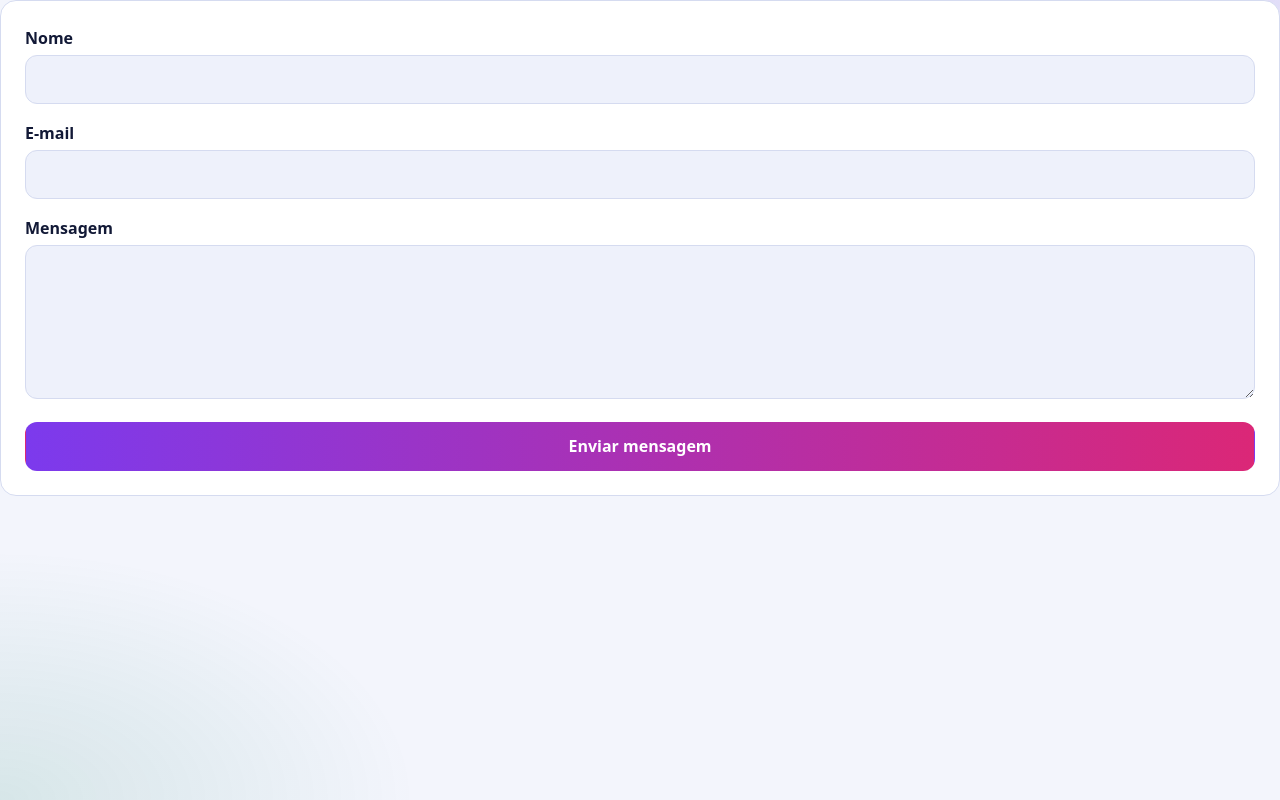
Test: ContactForm › bloqueia o botão durante o envio e evita mensagens duplicadas
Type "Maria Souza" into the field labelled "Nome".
click(640, 80); type("Maria Souza")  # box [25,55,1255,104]
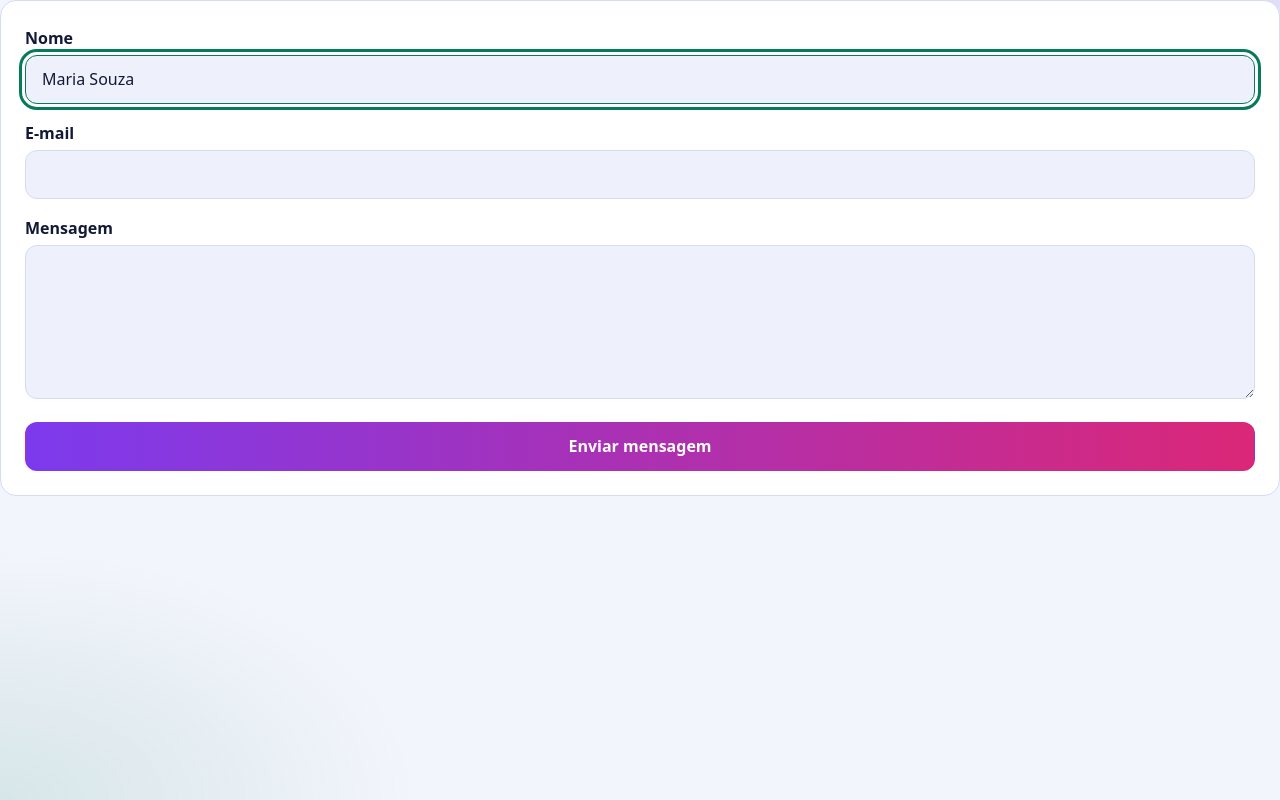
Type "maria@exemplo.com" into the field labelled "E-mail".
click(640, 174); type("maria@exemplo.com")  # box [25,150,1255,199]
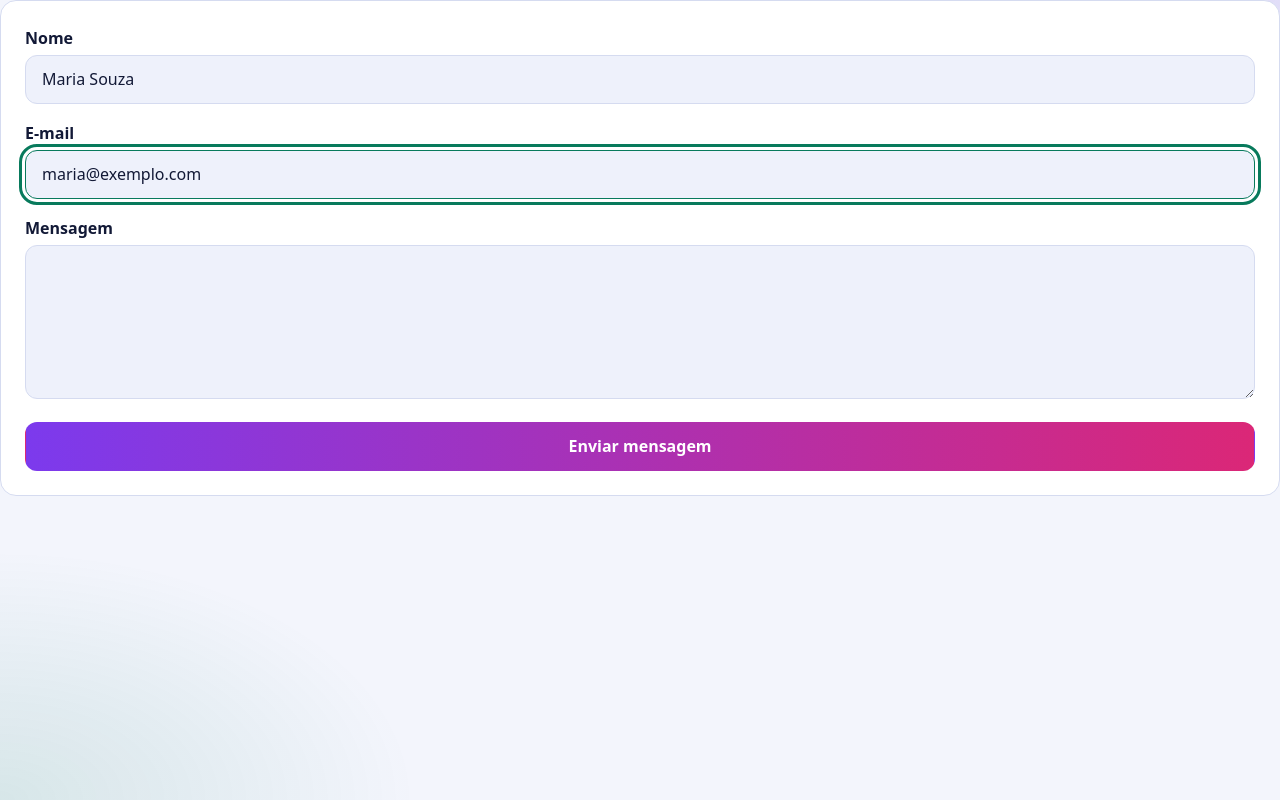
Type "Olá Henrique, gostei do seu portfólio e quero conversar." into the text box labelled "Mensagem".
click(640, 322); type("Olá Henrique, gostei do seu portfólio e quero conversar.")  # box [25,245,1255,399]
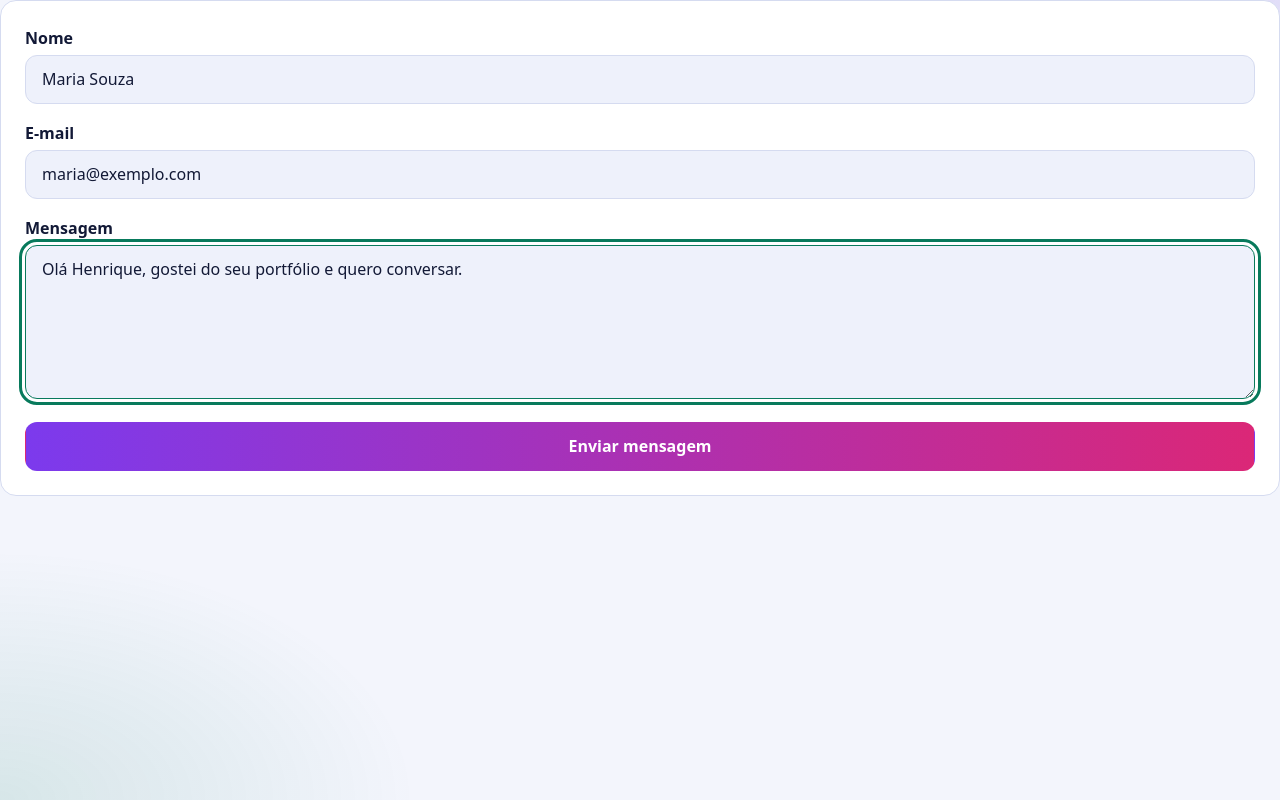
Click the button "Enviar mensagem".
click(640, 446)  # box [25,422,1255,471]
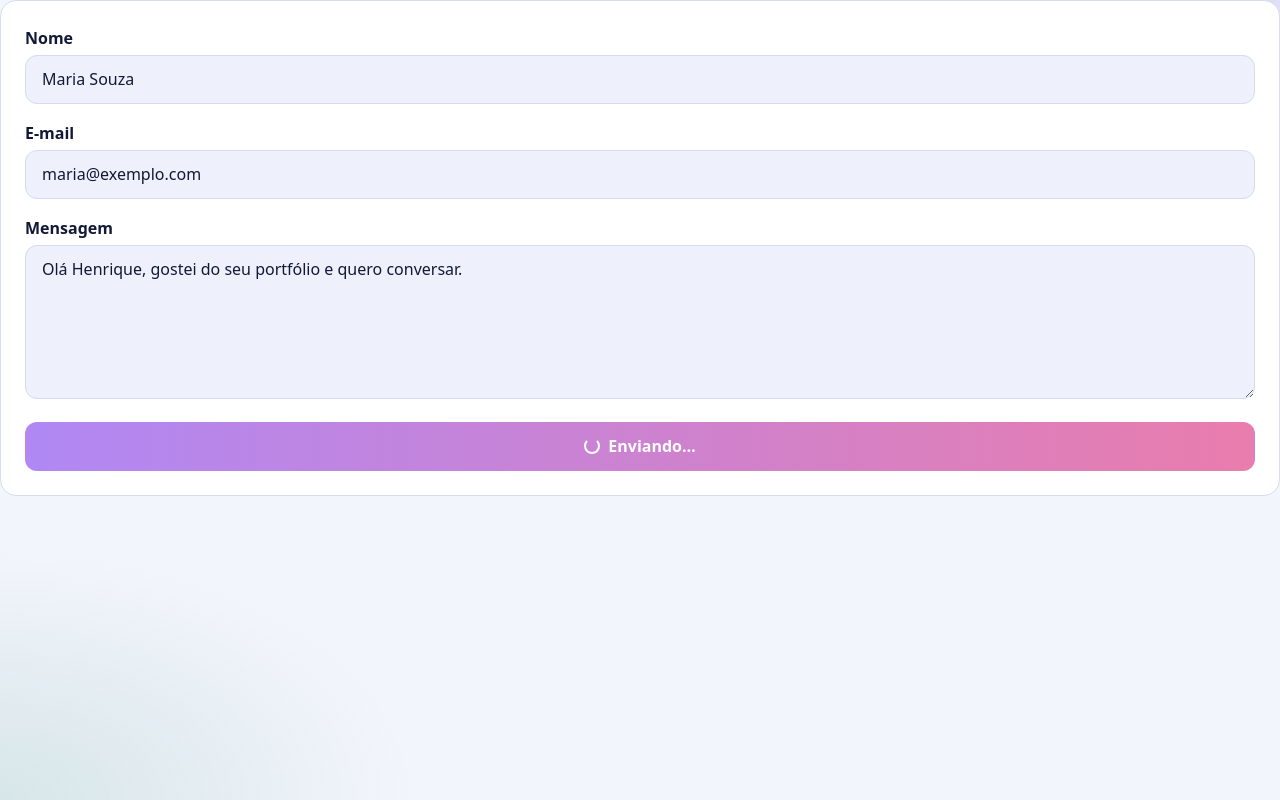
Check: the button "Enviando…" is disabled
Click the button "Enviando…".
click(640, 446)  # box [25,422,1255,471]
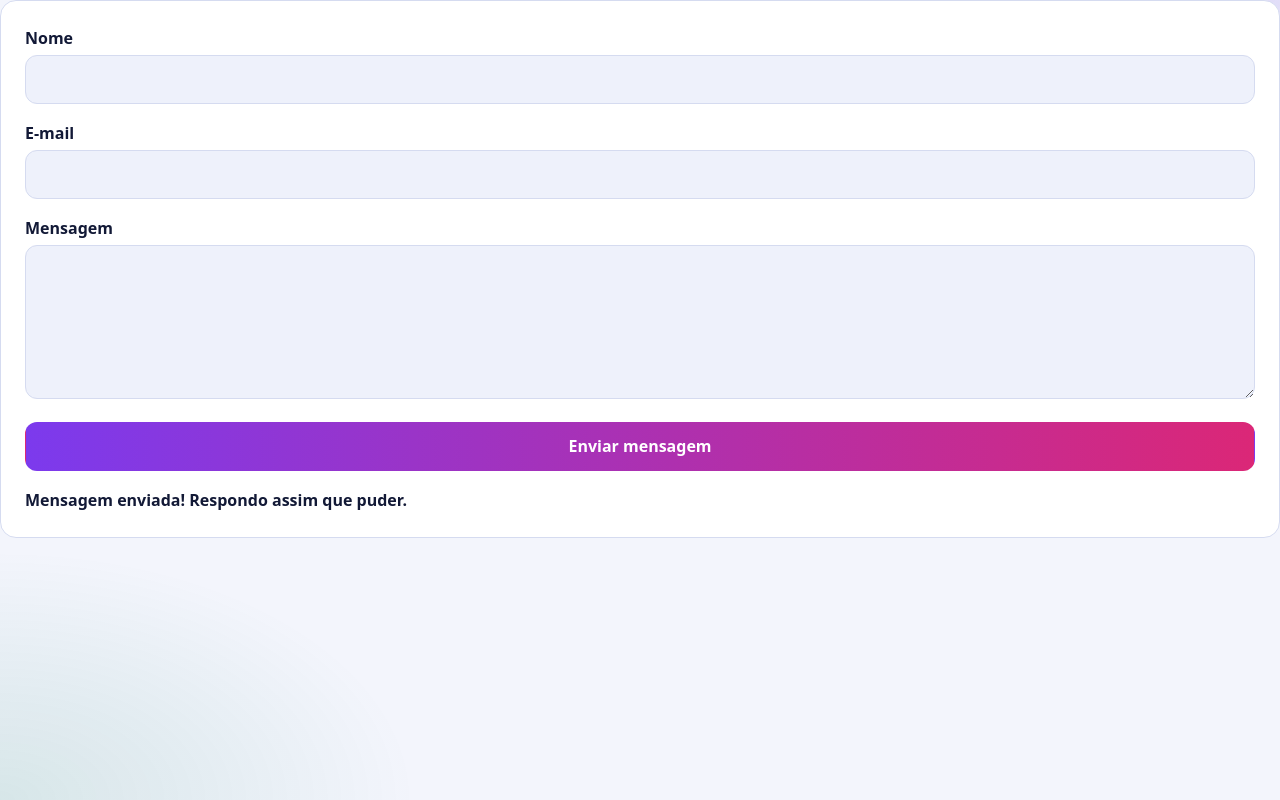
Check: the text "Mensagem enviada! Respondo assim que puder." is shown, box [25,489,407,511]
